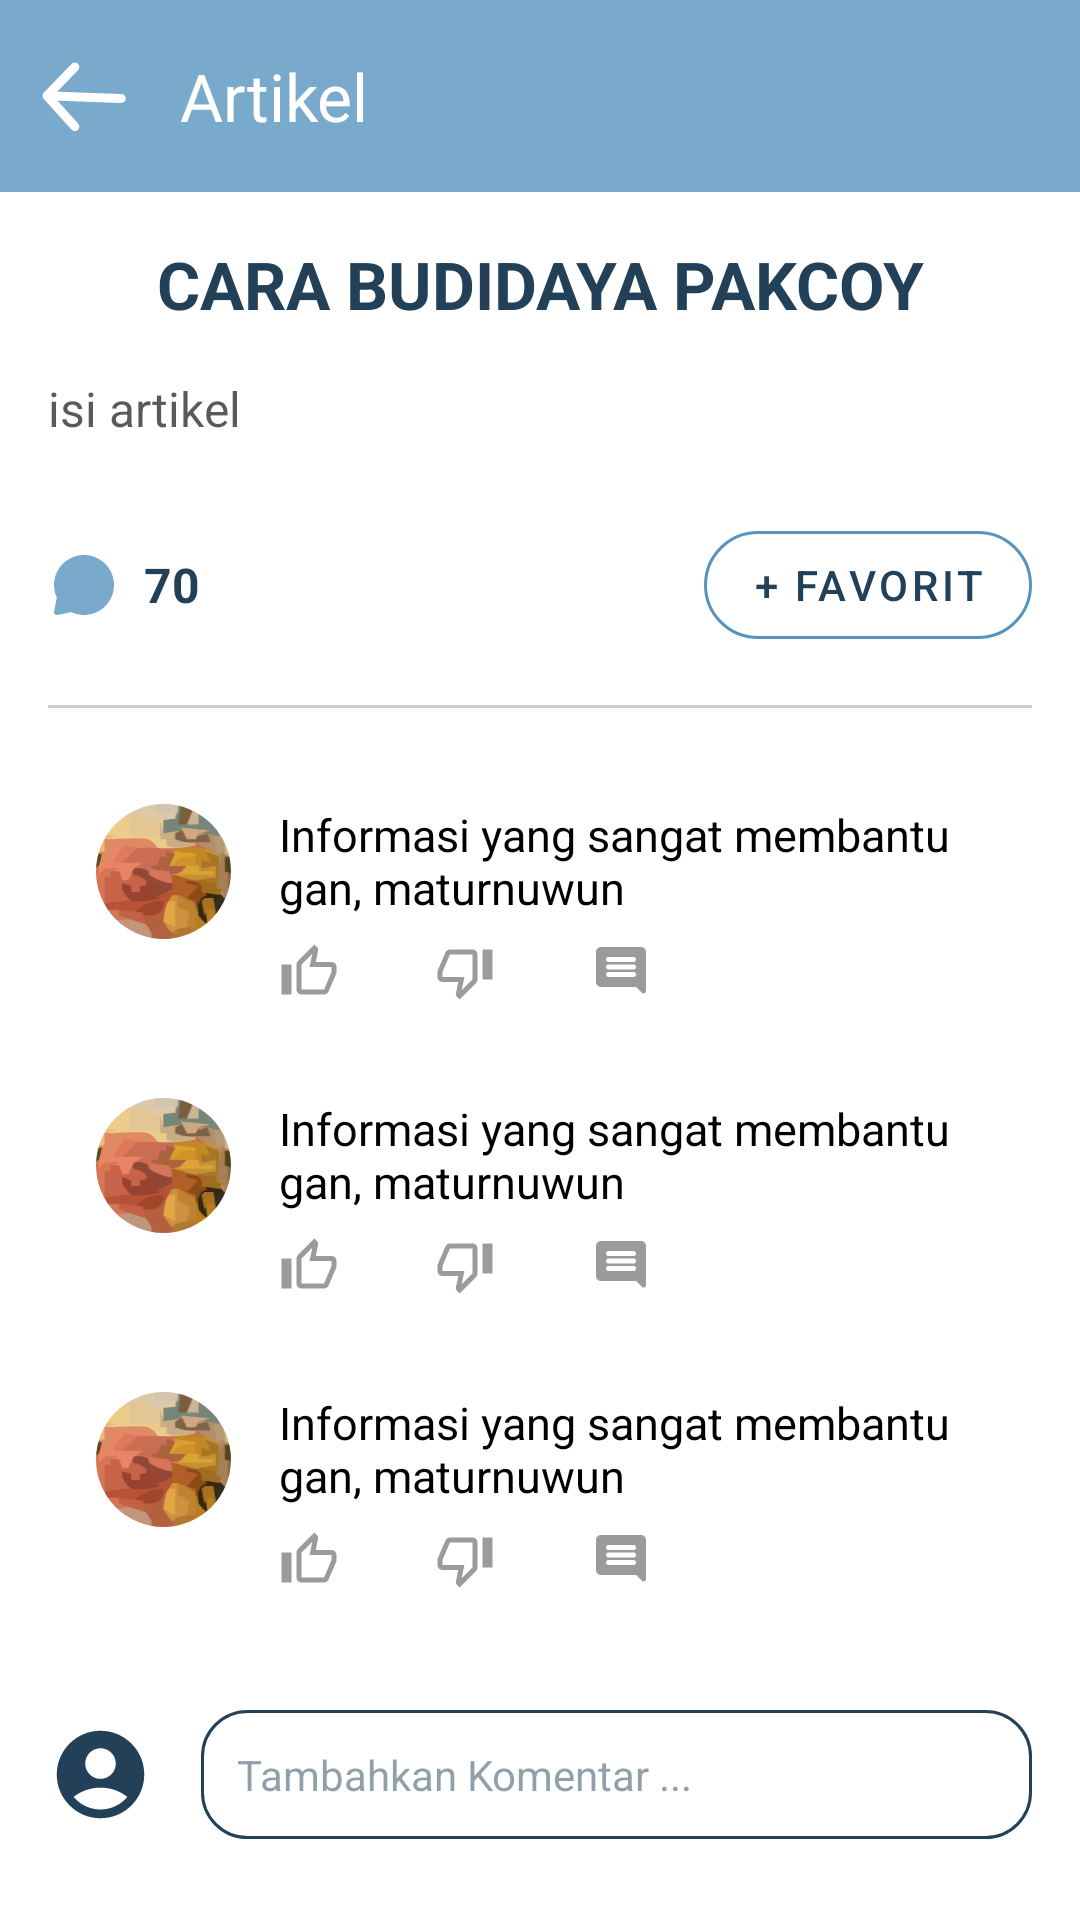

Screen size 1080w x 1920h. Icon name, then its box in pixels as [x1, y1, x2, y2]:
comment: [54, 555, 114, 615]
comment reply: [596, 947, 646, 994], [596, 1241, 646, 1288], [596, 1535, 646, 1582]
dislike: [437, 949, 493, 1000], [437, 1243, 493, 1294], [437, 1537, 493, 1588]
like: [281, 944, 337, 995], [281, 1238, 337, 1289], [281, 1532, 337, 1583]
profile pic: [96, 804, 231, 939], [96, 1098, 231, 1233], [96, 1392, 231, 1527]
